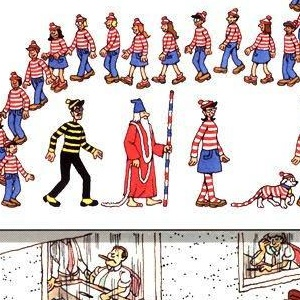Odlaw: (51, 97, 106, 207)
Wenda: (189, 95, 236, 209)
Wizard Whitebeard: (122, 91, 178, 209)
